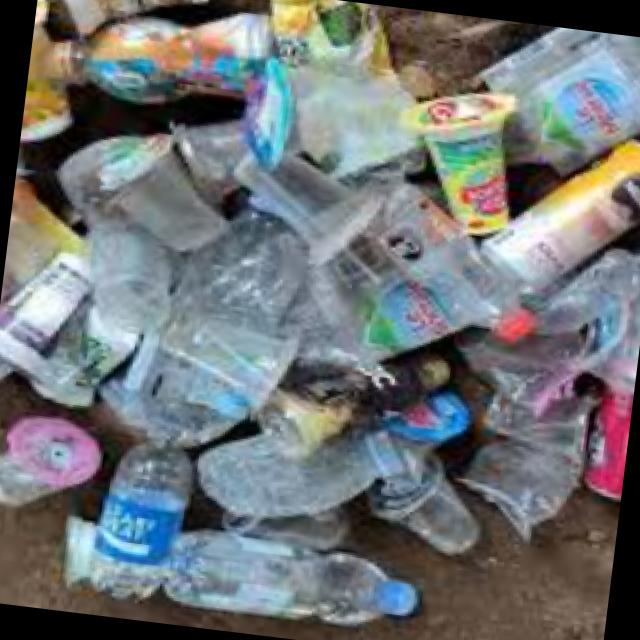GelasPlastik: (0, 0, 640, 640), (394, 90, 537, 250), (84, 140, 244, 266), (224, 150, 386, 268), (58, 208, 183, 354), (359, 449, 494, 571)
